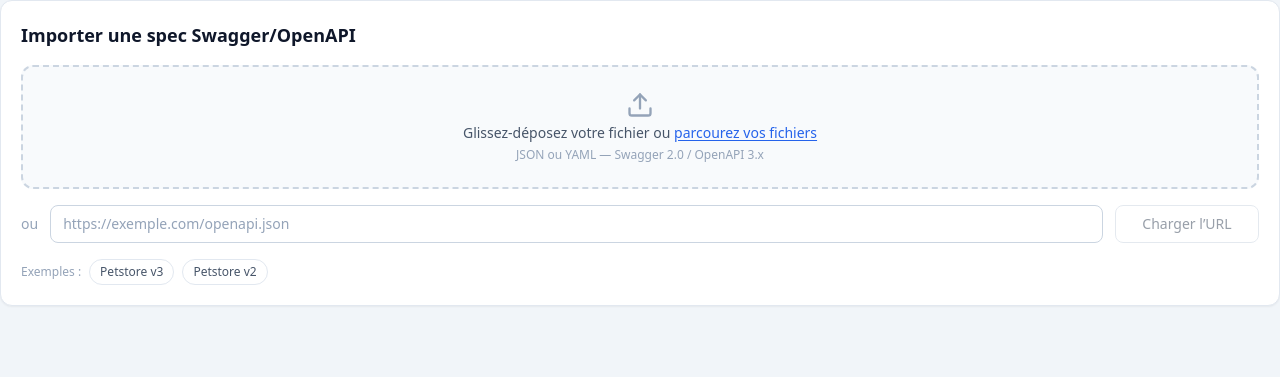
Test case: SwaggerUpload › affiche une erreur si le backend échoue
In the field with test id "url-input": (577, 224) [50,205,1103,243], type "https://api.example.com/openapi.json"
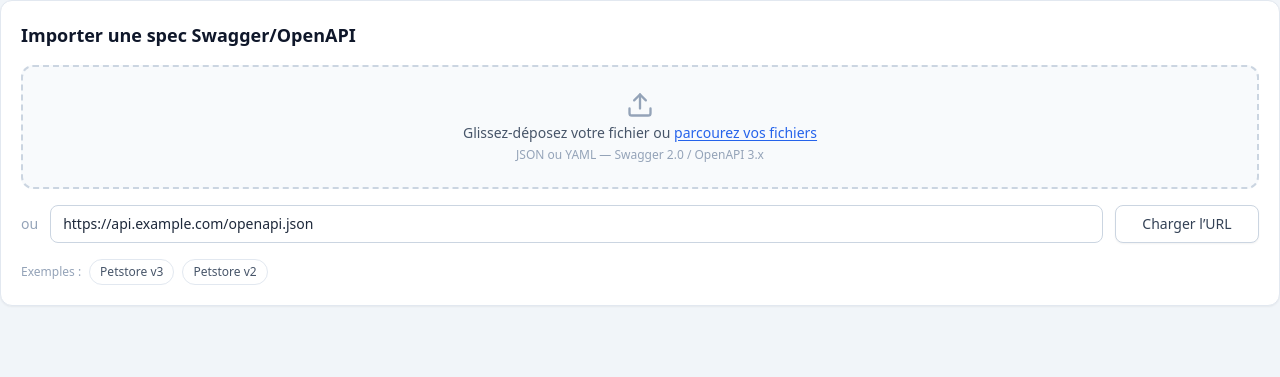
Click the button with test id "url-parse-button": (1187, 224) [1115,205,1259,243]
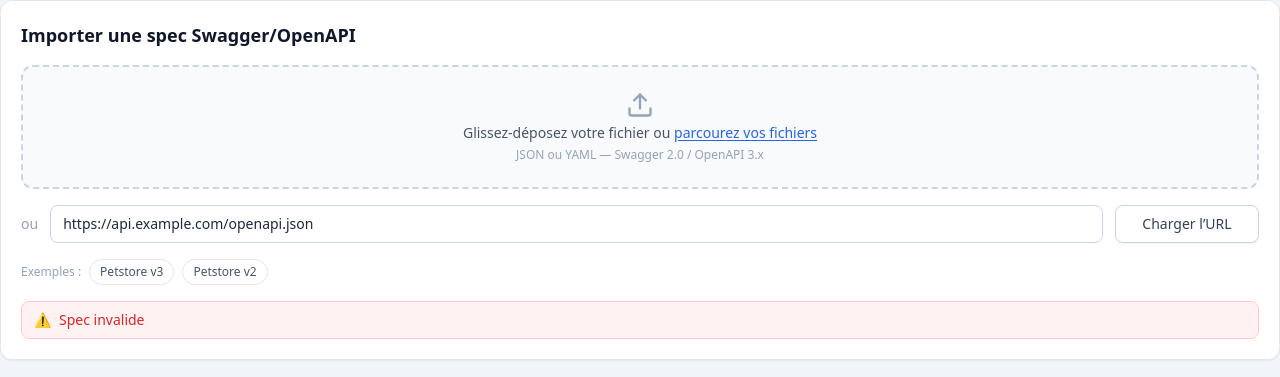
Result: the text "Spec invalide" is shown at [59,310,144,329]
